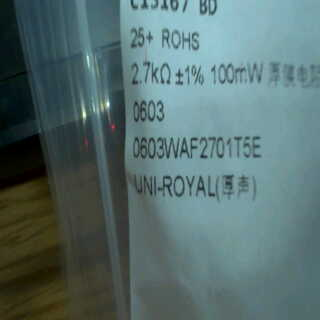2.7kR: (126, 61, 174, 90)
